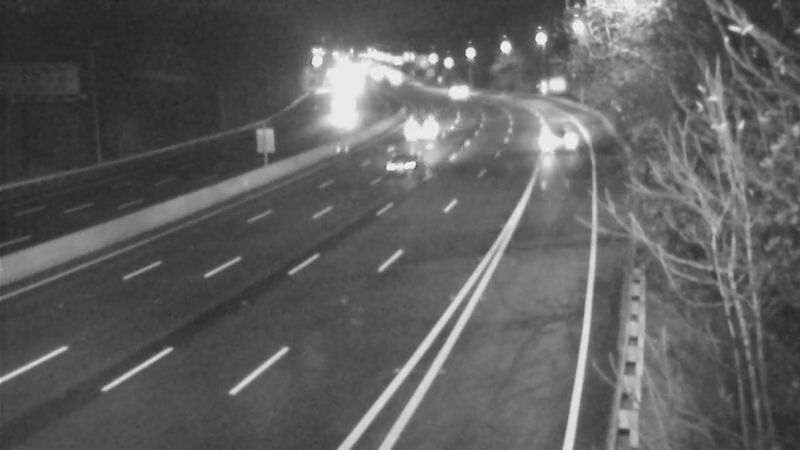vehicle: (365, 117, 445, 197), (433, 61, 483, 111), (521, 101, 571, 151), (396, 101, 446, 151), (314, 91, 364, 141)
